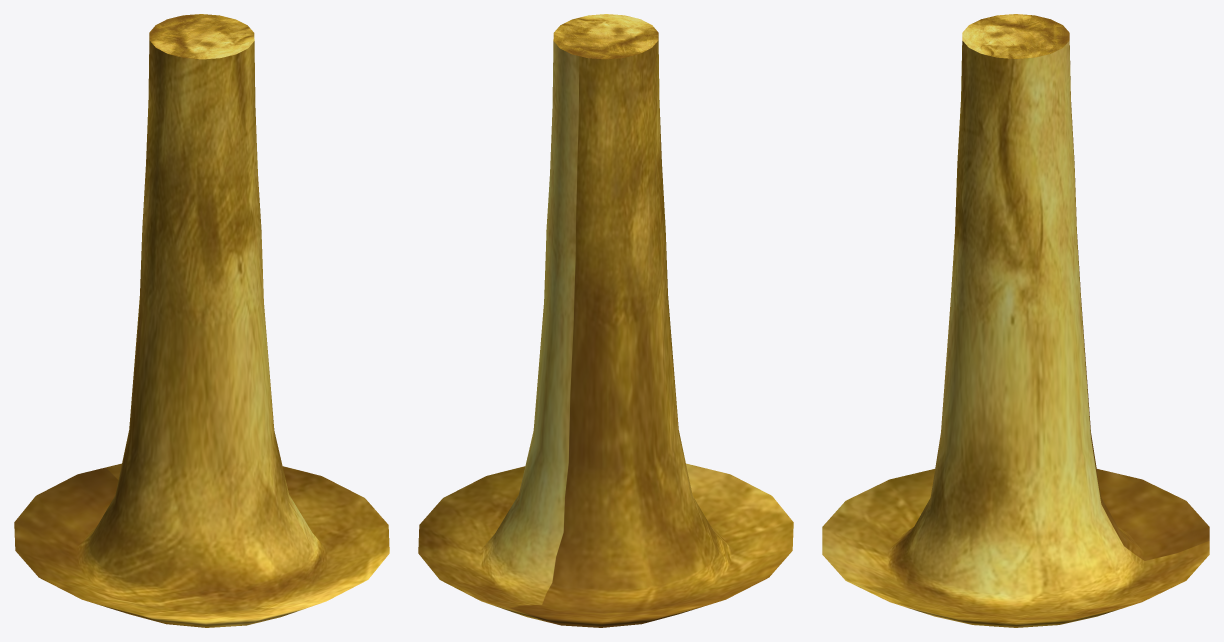
The model's file is OpheliasAoE.FBX.
3 views of the same model, side by side, from view 1: azimuth 30°, elevation 25°; view 2: azimuth 150°, elevation 25°; view 3: azimuth 270°, elevation 25° (orthographic).
Parts seen in each view (by area): view 1: Cylinder001; view 2: Cylinder001; view 3: Cylinder001.
Boxes of the visible parts, box(x1,y1,x2,y2) form: Cylinder001: box(14, 14, 389, 627); Cylinder001: box(418, 14, 793, 627); Cylinder001: box(822, 14, 1209, 627).
Size of the model in its own units: 20.71 by 32.7 by 21.16.
Materials: 1 (1 with a texture image).
